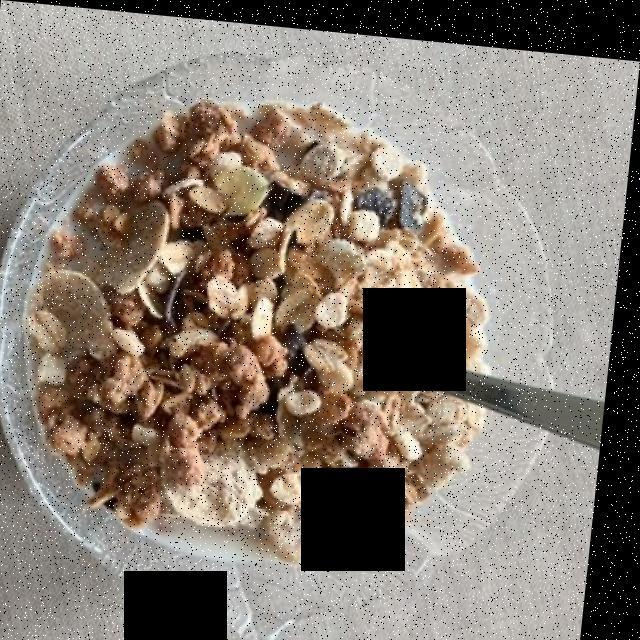muesli: (47, 95, 492, 548)
pumpkin-seeds: (144, 163, 431, 408)
